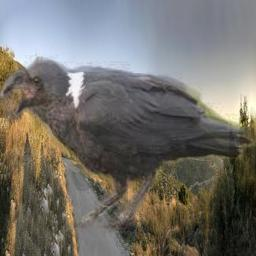Crow: (0, 55, 255, 233)
